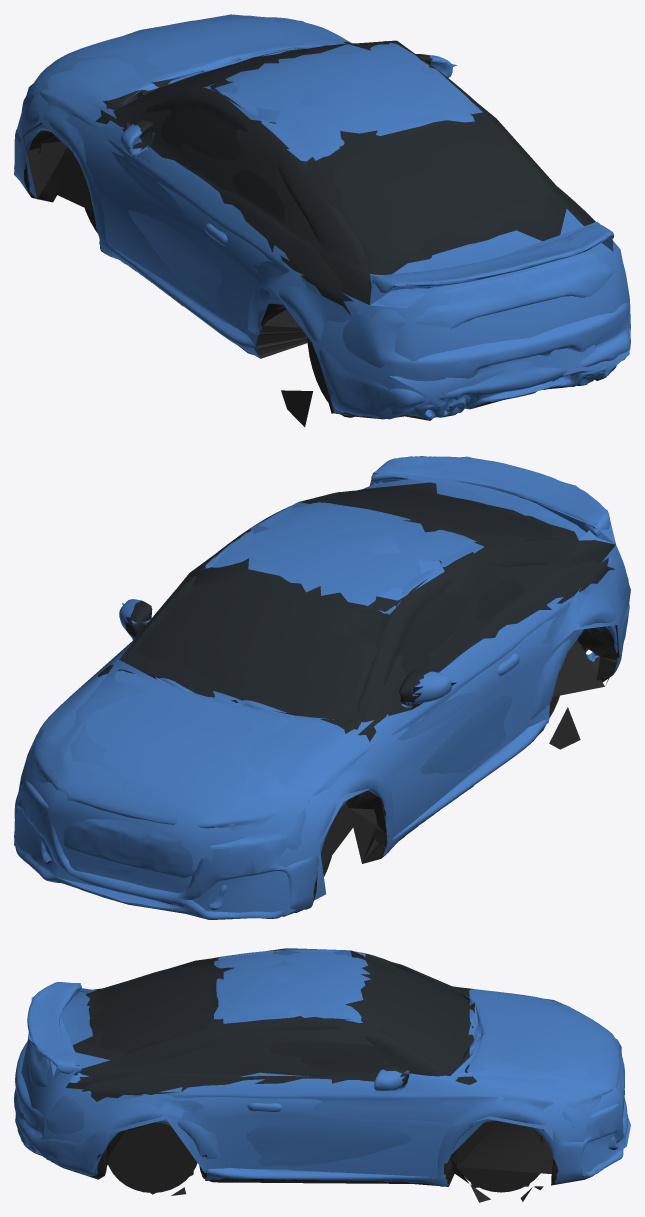
The model's file is audi-tt-rs.glb.
3 renders of one model, top to bottom at view 1: azimuth 30°, elevation 25°; view 2: azimuth 150°, elevation 25°; view 3: azimuth 270°, elevation 25°, orthographic. The views are drawn at different scales.
Parts seen in each view (by area): view 1: body, far; view 2: body, far; view 3: body, far.
Boxes of the visible parts, x1,y1,x2,y2 form: body: (14,15,630,420); far: (14,14,630,426); body: (14,456,629,919); far: (14,456,630,914); body: (14,949,628,1201); far: (15,948,630,1202).
Bounding box in the file's own units: 1.99 × 1.39 × 4.23.
